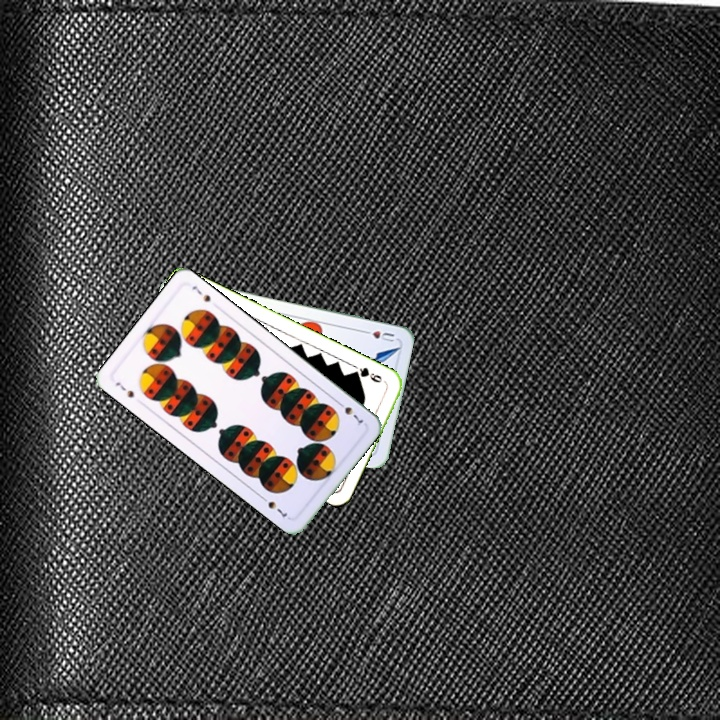G9: (349, 363, 385, 385)
HU: (358, 326, 397, 344)
S7: (333, 397, 366, 428), (111, 378, 137, 400)
